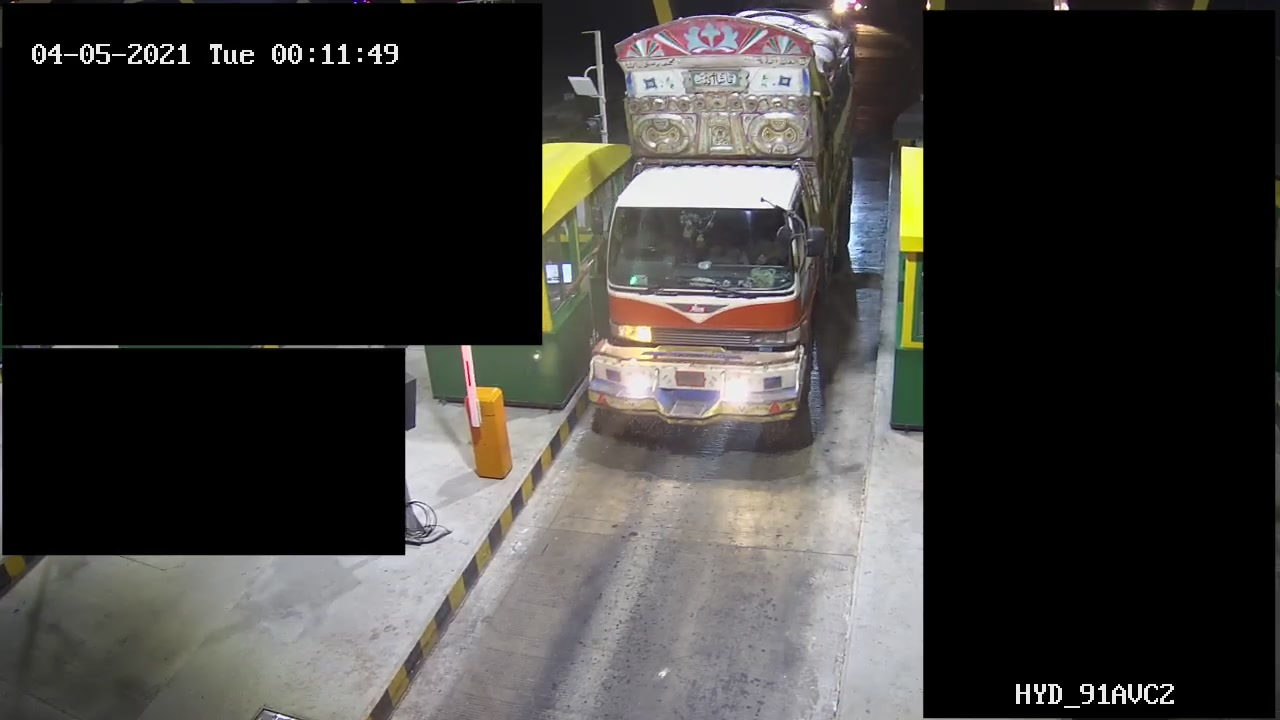F5: (569, 1, 860, 459)
